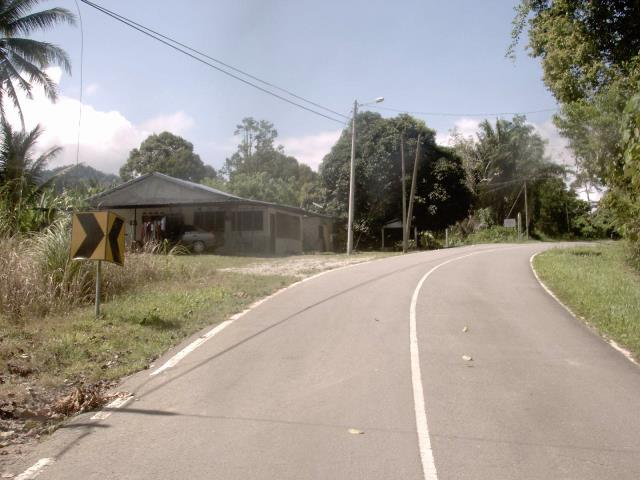traffic_sign: (61, 202, 120, 270)
